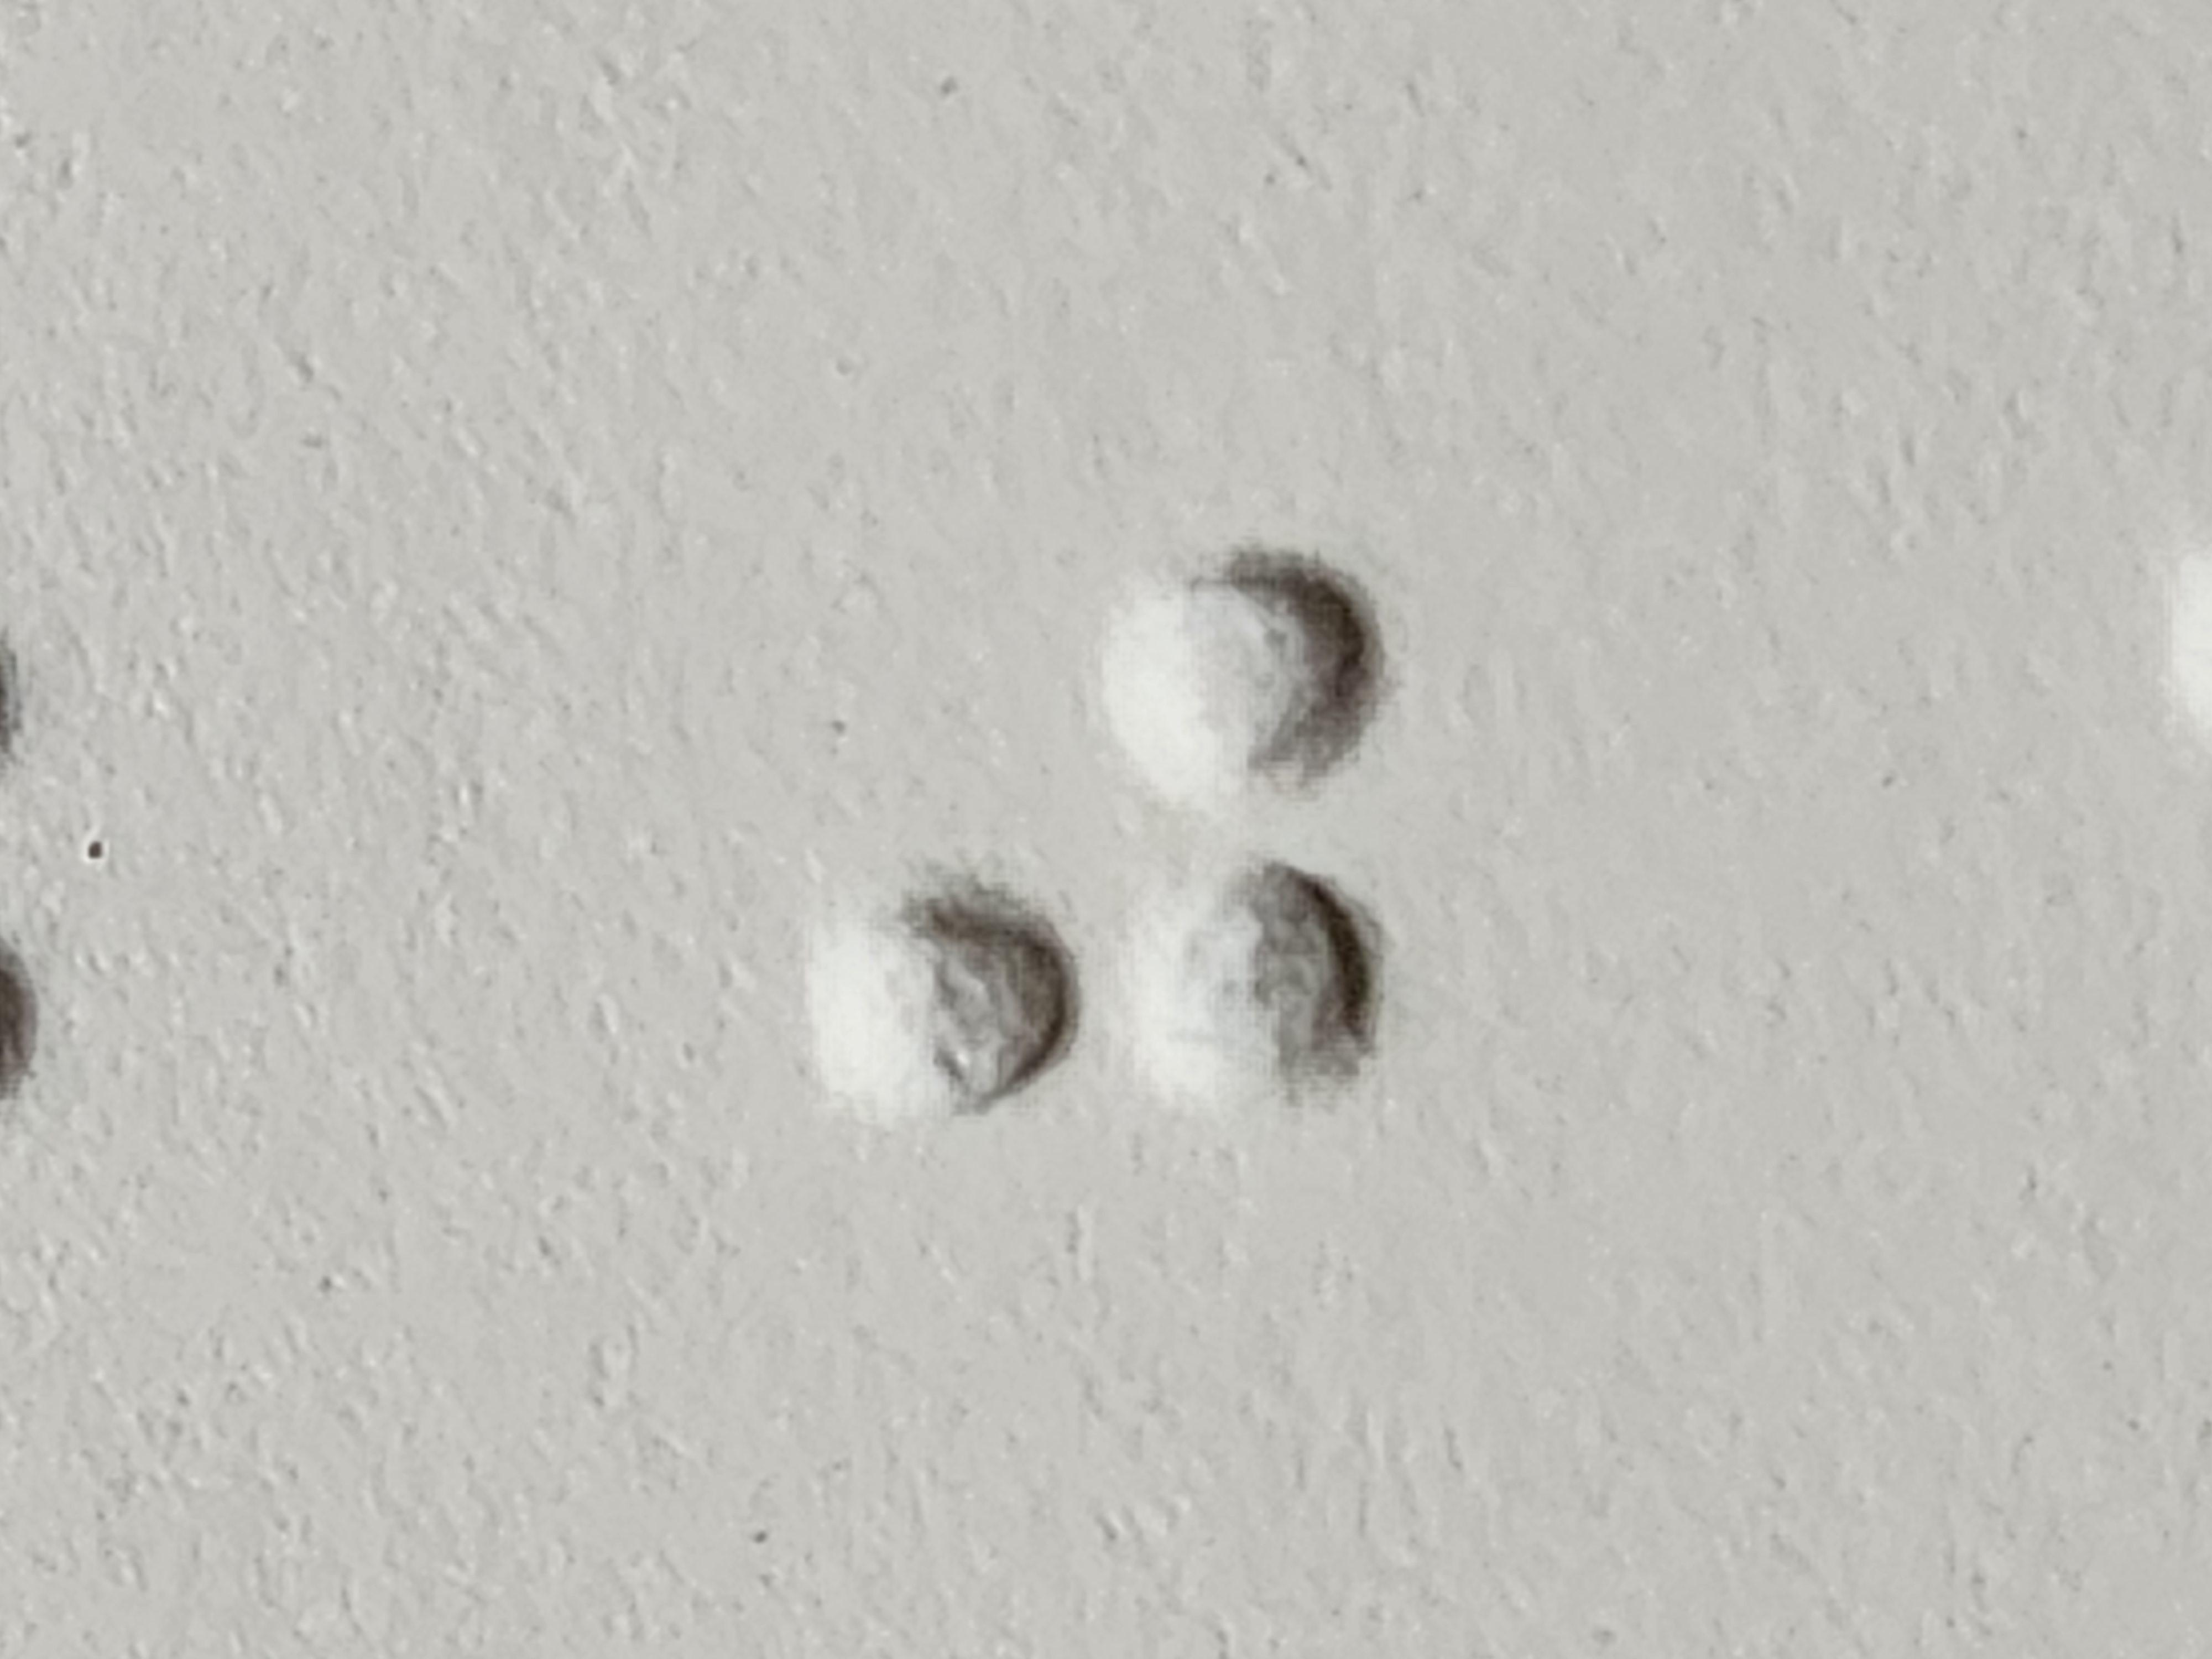one_cell_alphabet_hindi: (709, 598, 1475, 1309)
